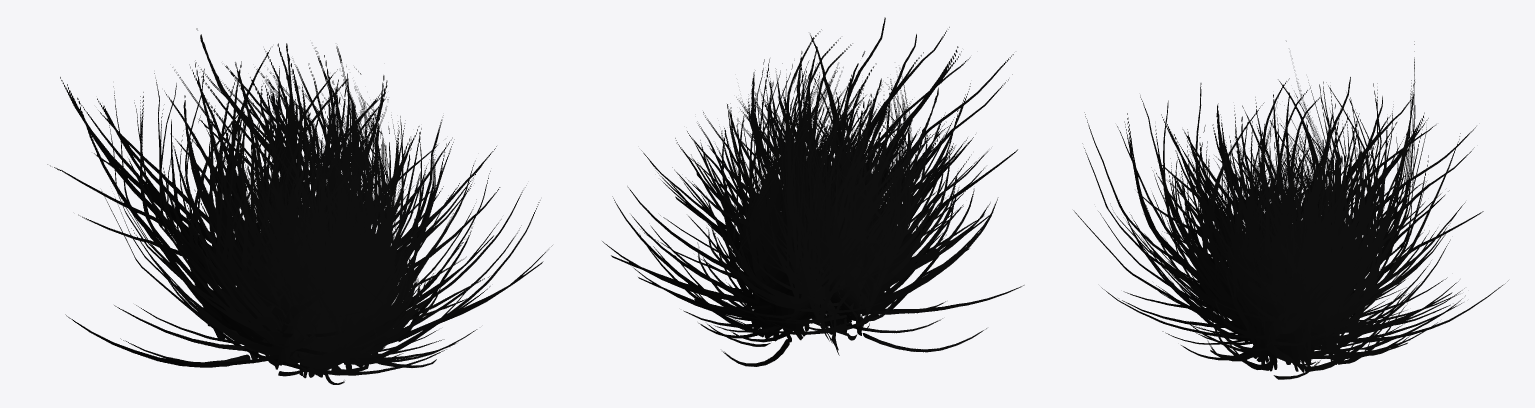
File: MagneticBush01.fbx
3 views of the same model, side by side, from view 1: azimuth 30°, elevation 25°; view 2: azimuth 150°, elevation 25°; view 3: azimuth 270°, elevation 25° (orthographic). The views are drawn at different scales.
Visible parts, largest first — view 1: MagneticBush01; view 2: MagneticBush01; view 3: MagneticBush01.
Boxes of the visible parts, x1,y1,x2,y2 form: MagneticBush01: [47, 28, 552, 384]; MagneticBush01: [602, 17, 1024, 366]; MagneticBush01: [1073, 41, 1508, 379].
Size of the model in its own units: 0.8697 by 0.6634 by 0.947.
